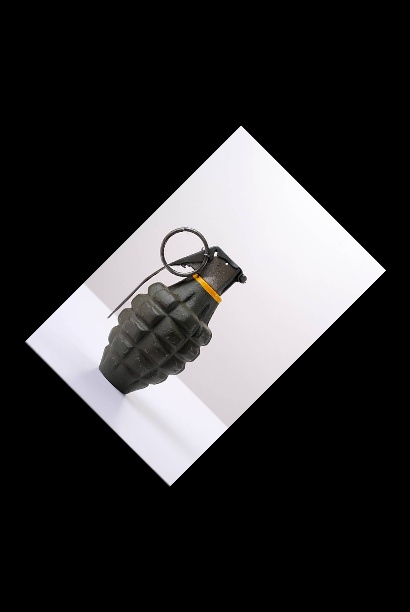e1: (97, 225, 245, 396)
